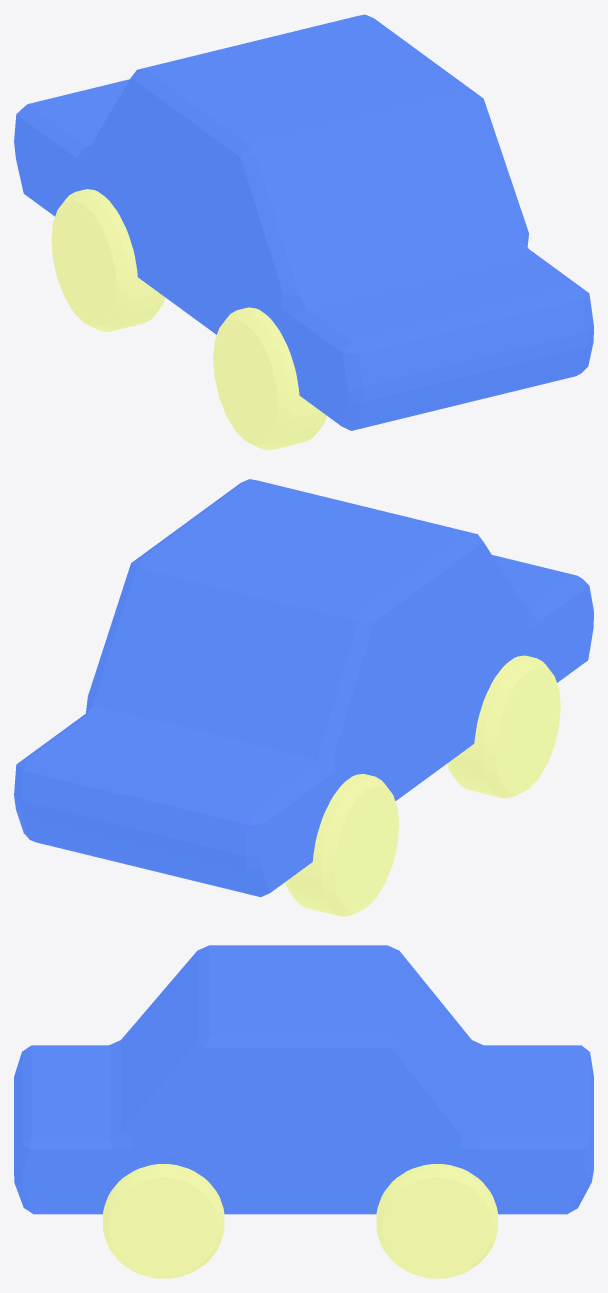
File: car_type_01.glb
The picture shows the model from 3 angles, top to bottom: view 1: azimuth 30°, elevation 25°; view 2: azimuth 150°, elevation 25°; view 3: azimuth 270°, elevation 25°; orthographic projection. The views are drawn at different scales.
Visible parts, largest first — view 1: Cube; view 2: Cube; view 3: Cube.
Part boxes in pixels (x1=…): Cube: x1=14, y1=14, x2=593, y2=450; Cube: x1=14, y1=479, x2=593, y2=916; Cube: x1=14, y1=945, x2=593, y2=1278.
Size of the model in its own units: 6.62 by 6.11 by 13.82.
